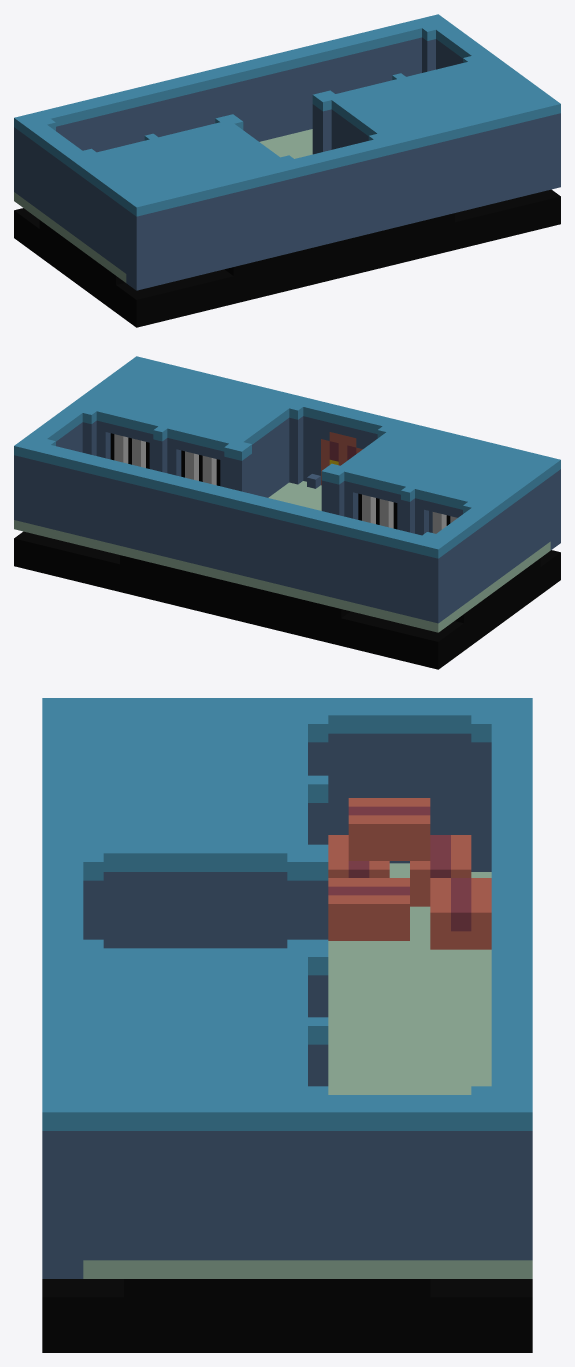
File: hab1.0.obj
3 views of the same model, one above another, from view 1: azimuth 30°, elevation 25°; view 2: azimuth 150°, elevation 25°; view 3: azimuth 270°, elevation 25° (orthographic). The views are drawn at different scales.
Size of the model in its own units: 48 by 13 by 24.
1 material, 1 textured.
